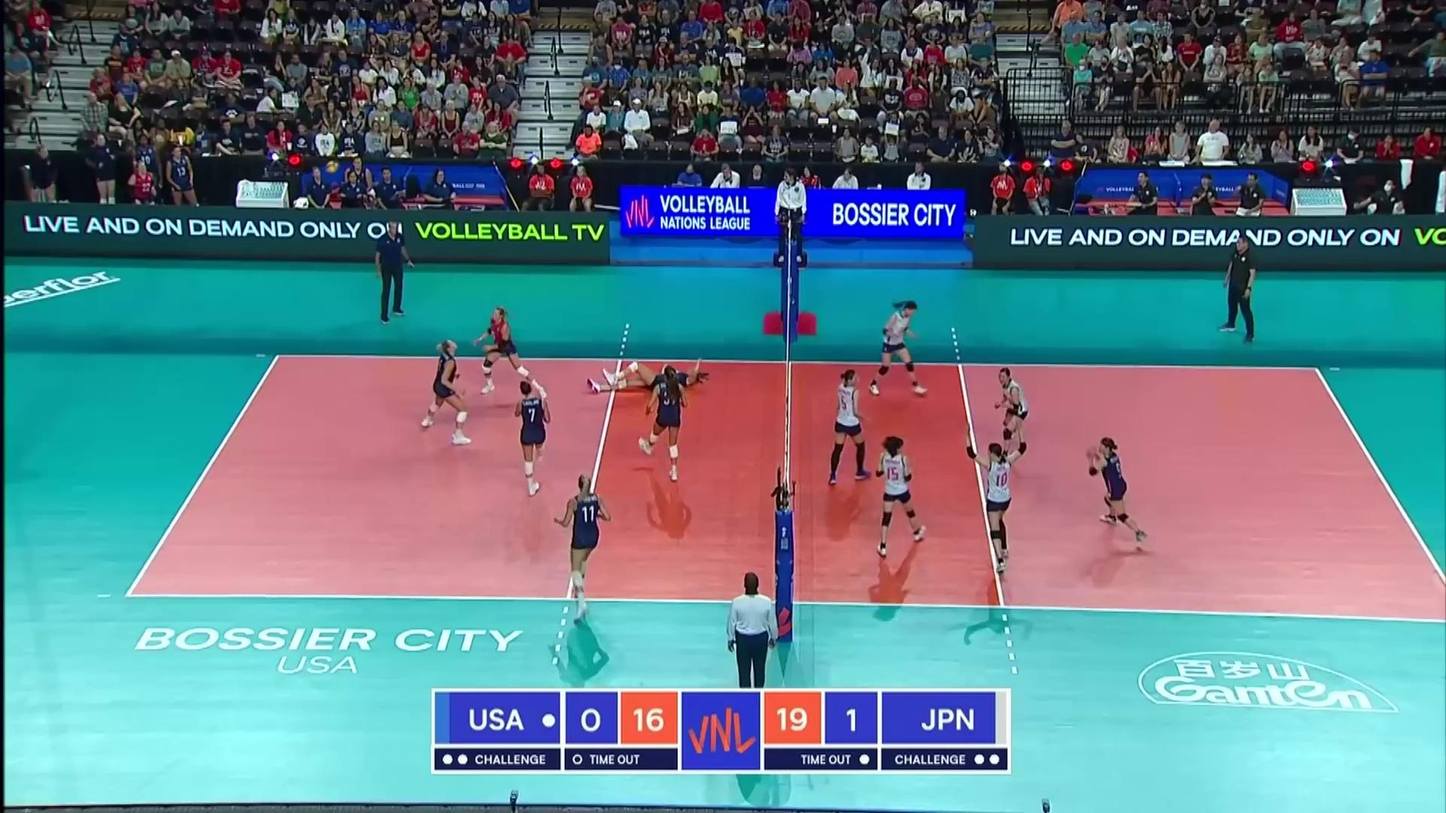player: (966, 428, 1028, 574), (556, 473, 609, 626), (1088, 438, 1150, 552), (478, 308, 549, 397), (876, 437, 927, 555), (419, 341, 475, 446), (825, 371, 876, 484), (639, 364, 687, 481), (869, 299, 927, 393), (590, 359, 711, 393), (516, 383, 550, 495), (992, 365, 1032, 458)
refree: (722, 574, 784, 688), (774, 163, 813, 268)
